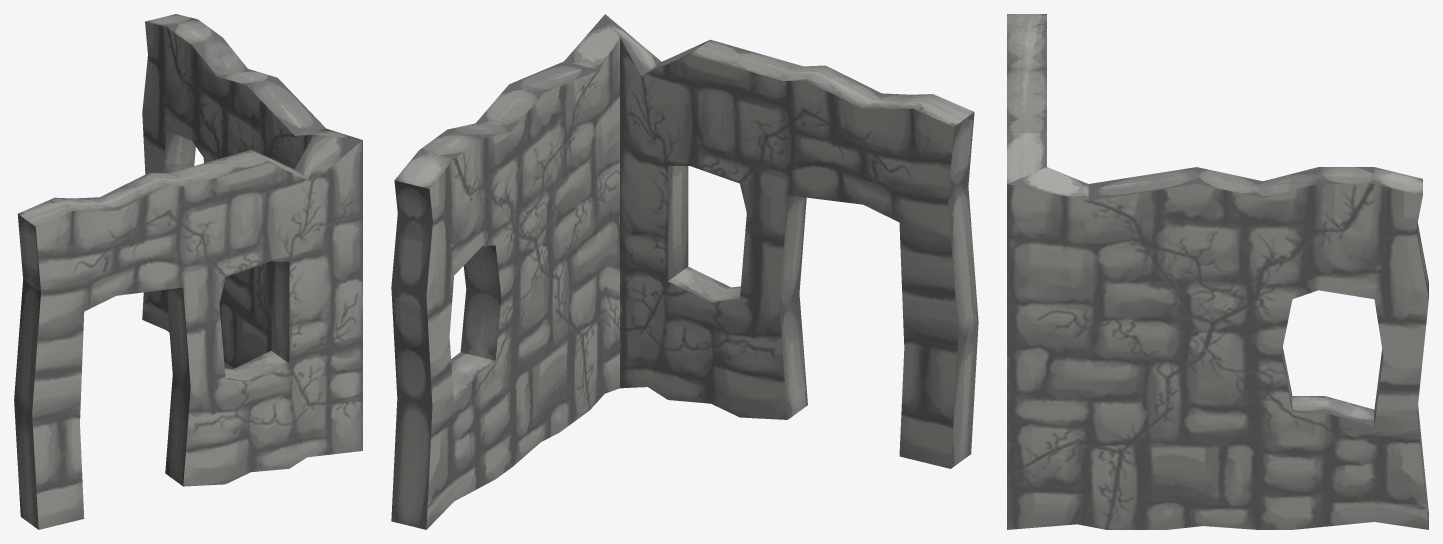
The model's file is RuinedStructure01_Geo.fbx.
3 views of the same model, side by side, from view 1: azimuth 30°, elevation 25°; view 2: azimuth 150°, elevation 25°; view 3: azimuth 270°, elevation 25° (orthographic). The views are drawn at different scales.
Visible parts, largest first — view 1: RuinedStructure011_Geo, RuinedStructure012_Geo, RuinedStructure013_Geo, RuinedStructure014_Geo, RuinedStructure015_Geo; view 2: RuinedStructure011_Geo, RuinedStructure014_Geo, RuinedStructure013_Geo, RuinedStructure012_Geo, RuinedStructure015_Geo; view 3: RuinedStructure014_Geo, RuinedStructure013_Geo, RuinedStructure015_Geo, RuinedStructure011_Geo, RuinedStructure012_Geo.
Part boxes in pixels (x1=…): RuinedStructure011_Geo: x1=14, y1=212, x2=362, y2=529; RuinedStructure012_Geo: x1=17, y1=149, x2=312, y2=292; RuinedStructure013_Geo: x1=258, y1=128, x2=362, y2=405; RuinedStructure014_Geo: x1=142, y1=14, x2=271, y2=368; RuinedStructure015_Geo: x1=167, y1=19, x2=325, y2=158; RuinedStructure011_Geo: x1=582, y1=111, x2=978, y2=468; RuinedStructure014_Geo: x1=391, y1=150, x2=589, y2=529; RuinedStructure013_Geo: x1=513, y1=14, x2=688, y2=336; RuinedStructure012_Geo: x1=641, y1=39, x2=974, y2=200; RuinedStructure015_Geo: x1=419, y1=61, x2=598, y2=232; RuinedStructure014_Geo: x1=1107, y1=167, x2=1428, y2=529; RuinedStructure013_Geo: x1=1007, y1=167, x2=1257, y2=473; RuinedStructure015_Geo: x1=1088, y1=167, x2=1374, y2=298; RuinedStructure011_Geo: x1=1007, y1=441, x2=1120, y2=529; RuinedStructure012_Geo: x1=1007, y1=14, x2=1046, y2=183.
Size of the model in its own units: 334 by 302 by 331.
